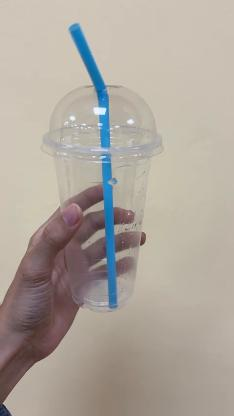Plastic Cup: (41, 85, 165, 305)
